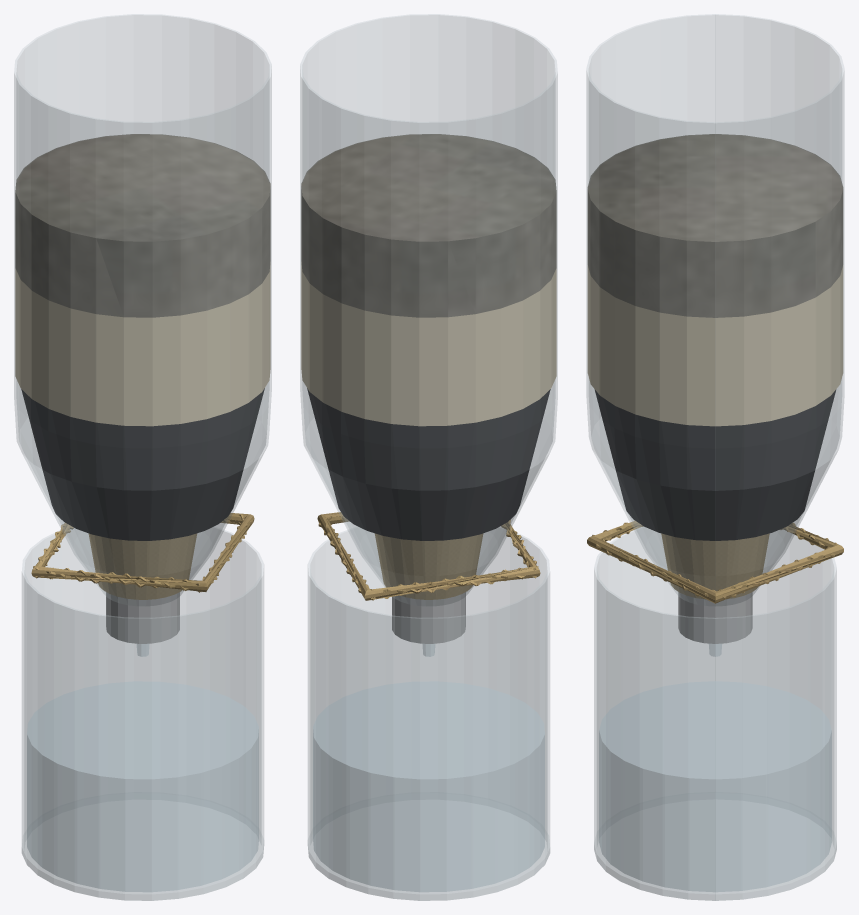
File: filtro_garrafa.glb
3 views of the same model, side by side, from view 1: azimuth 30°, elevation 25°; view 2: azimuth 150°, elevation 25°; view 3: azimuth 270°, elevation 25° (orthographic).
Parts seen in each view (by area): view 1: filtro_garrafa_pet, filtro_garrafa_agua, filtro_garrafa_pedra_rio, filtro_garrafa_areia, filtro_garrafa_carvao, filtro_garrafa_trapo_bege, filtro_garrafa_corda, filtro_garrafa_plastico_cinza; view 2: filtro_garrafa_pet, filtro_garrafa_agua, filtro_garrafa_pedra_rio, filtro_garrafa_areia, filtro_garrafa_carvao, filtro_garrafa_trapo_bege, filtro_garrafa_corda, filtro_garrafa_plastico_cinza; view 3: filtro_garrafa_pet, filtro_garrafa_agua, filtro_garrafa_pedra_rio, filtro_garrafa_areia, filtro_garrafa_carvao, filtro_garrafa_trapo_bege, filtro_garrafa_corda, filtro_garrafa_plastico_cinza.
Part boxes in pixels (<box>): filtro_garrafa_pet: <box>14,14,271,900</box>; filtro_garrafa_agua: <box>27,644,258,891</box>; filtro_garrafa_pedra_rio: <box>15,134,270,317</box>; filtro_garrafa_areia: <box>15,262,270,426</box>; filtro_garrafa_carvao: <box>21,388,264,540</box>; filtro_garrafa_trapo_bege: <box>88,533,197,599</box>; filtro_garrafa_corda: <box>31,513,254,592</box>; filtro_garrafa_plastico_cinza: <box>106,592,179,643</box>; filtro_garrafa_pet: <box>300,14,557,900</box>; filtro_garrafa_agua: <box>313,644,544,891</box>; filtro_garrafa_pedra_rio: <box>301,134,556,317</box>; filtro_garrafa_areia: <box>301,262,556,426</box>; filtro_garrafa_carvao: <box>307,388,550,540</box>; filtro_garrafa_trapo_bege: <box>374,533,483,599</box>; filtro_garrafa_corda: <box>317,512,540,600</box>; filtro_garrafa_plastico_cinza: <box>392,592,465,643</box>; filtro_garrafa_pet: <box>586,14,844,900</box>; filtro_garrafa_agua: <box>599,644,831,891</box>; filtro_garrafa_pedra_rio: <box>587,134,843,317</box>; filtro_garrafa_areia: <box>587,265,843,426</box>; filtro_garrafa_carvao: <box>594,389,836,540</box>; filtro_garrafa_trapo_bege: <box>661,533,769,599</box>; filtro_garrafa_corda: <box>587,520,843,603</box>; filtro_garrafa_plastico_cinza: <box>678,592,752,643</box>.
Bounding box in the file's own units: 0.108 × 0.36 × 0.108.
Materials: 8 (3 with a texture image).
